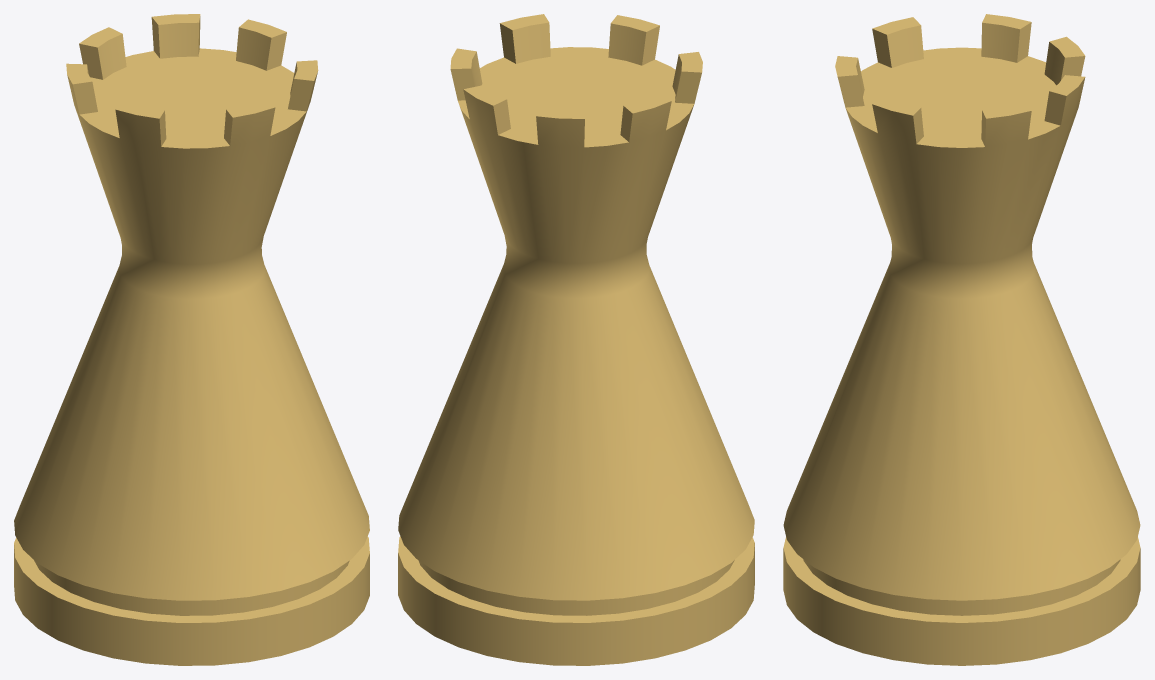
Rendered from Rook_W.fbx.
3 renders of one model, left to right at view 1: azimuth 30°, elevation 25°; view 2: azimuth 150°, elevation 25°; view 3: azimuth 270°, elevation 25°, orthographic.
Parts seen in each view (by area): view 1: Rook_W; view 2: Rook_W; view 3: Rook_W.
Part boxes in pixels (left/top/right/bottom): Rook_W: left=14, top=14, right=369, bottom=665; Rook_W: left=398, top=14, right=754, bottom=665; Rook_W: left=783, top=14, right=1140, bottom=665.
Bounding box in the file's own units: 150 × 243 × 150.
